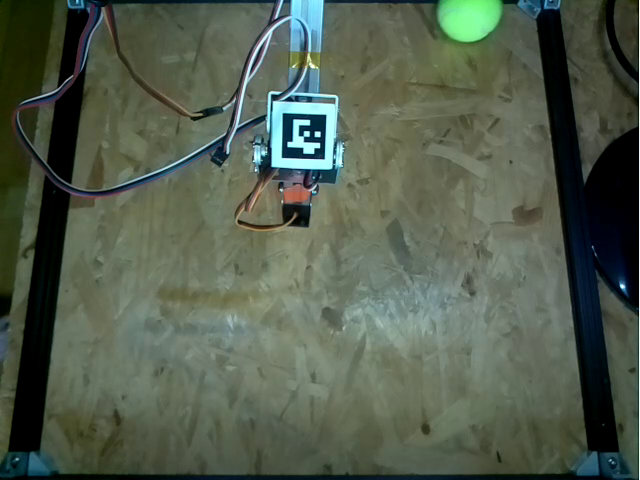tennis_ball: (437, 1, 504, 43)
